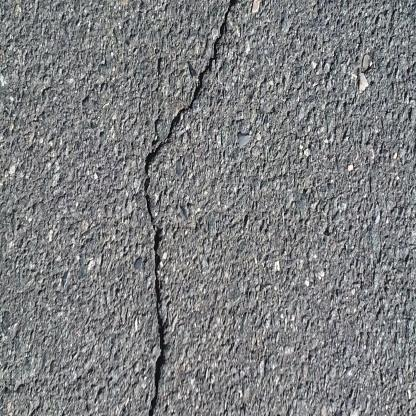Cracks: (130, 0, 268, 416)
